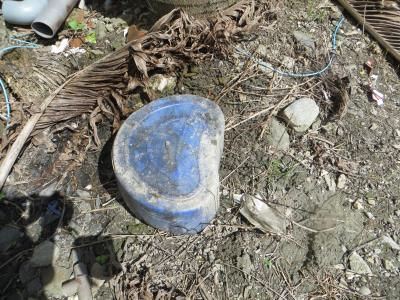bowl: (104, 92, 228, 241)
